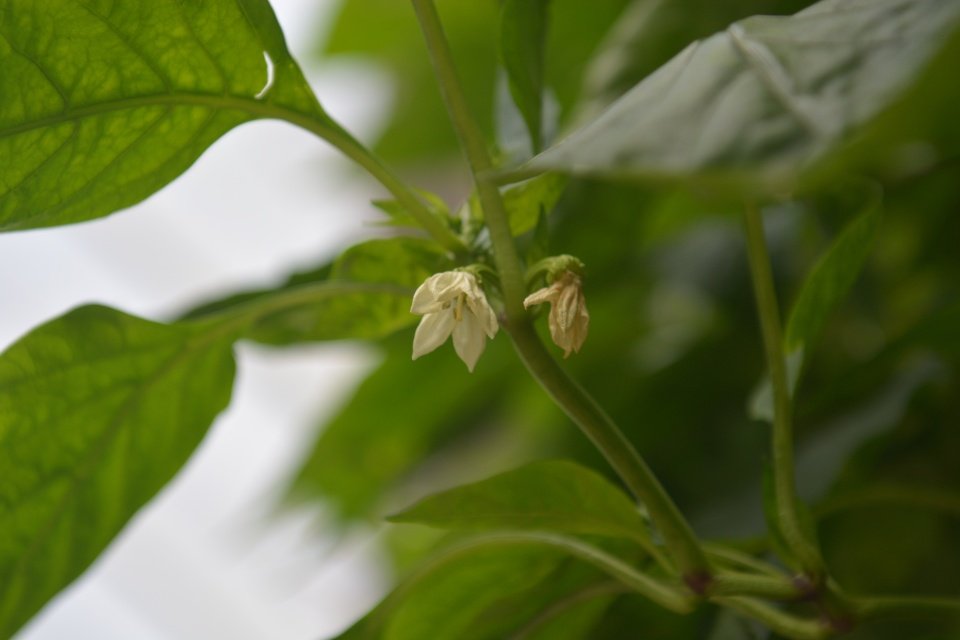flower: (407, 269, 500, 374)
